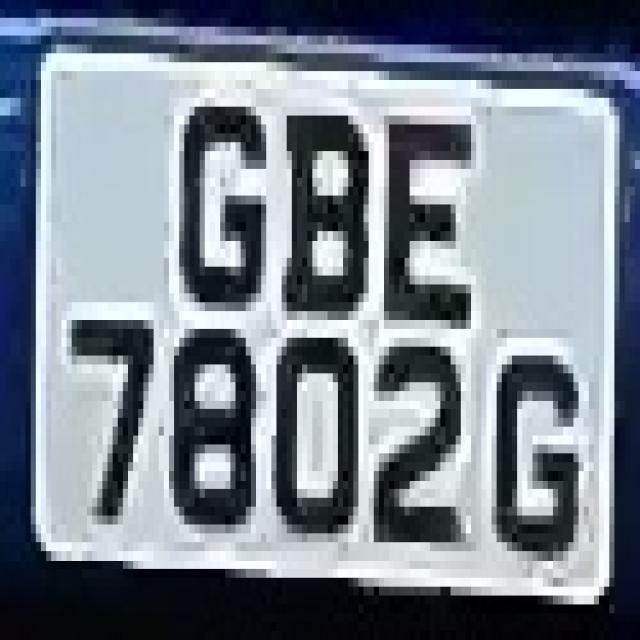0: (271, 311, 369, 533)
2: (358, 329, 466, 560)
7: (62, 285, 148, 551)
8: (159, 311, 271, 525)
B: (271, 71, 374, 347)
E: (384, 89, 486, 320)
G: (481, 329, 594, 560), (169, 71, 261, 311)
